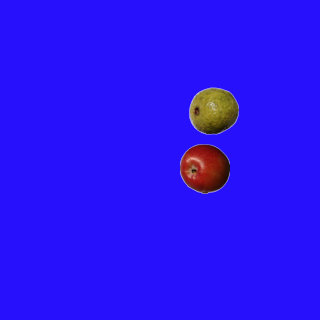Apple Braeburn: (179, 143, 229, 193)
Guava: (188, 85, 238, 135)
